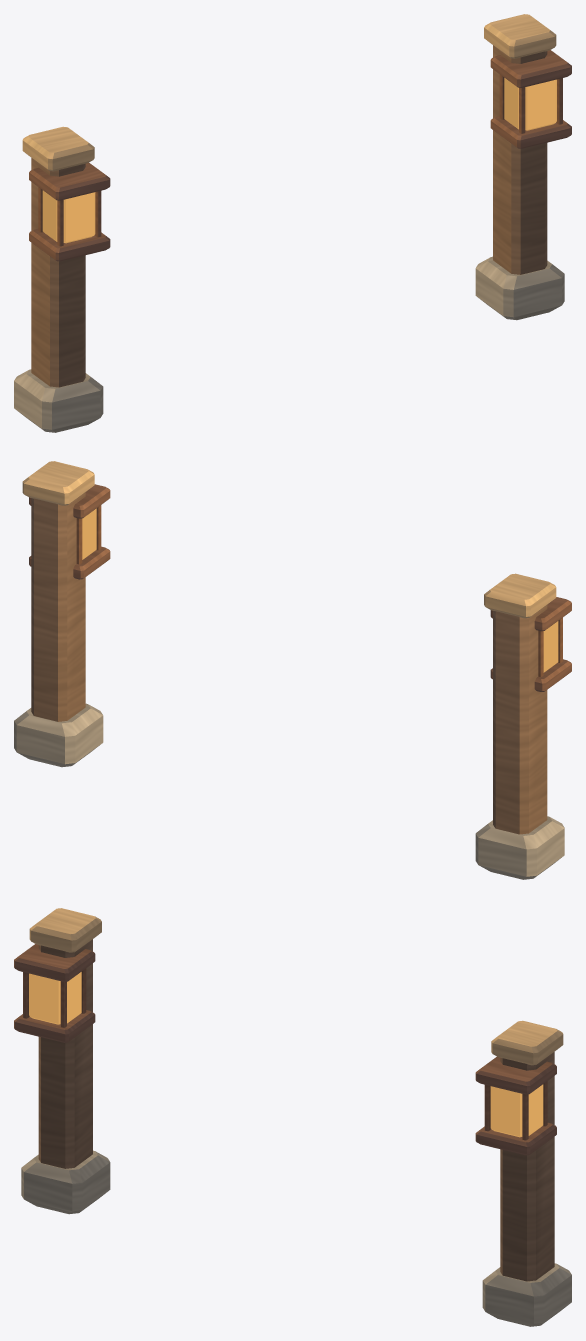
Rendered from frontier_open.glb.
3 views of the same model, one above another, from view 1: azimuth 30°, elevation 25°; view 2: azimuth 150°, elevation 25°; view 3: azimuth 330°, elevation 25° (orthographic).
Parts seen in each view (by area): view 1: Freier Weg; view 2: Freier Weg; view 3: Freier Weg.
Boxes of the visible parts, x1,y1,x2,y2 form: Freier Weg: (14,14,571,432); Freier Weg: (14,461,571,879); Freier Weg: (14,908,571,1326).
Size of the model in its own units: 3.24 by 1.65 by 0.465.
2 materials, 1 textured.
